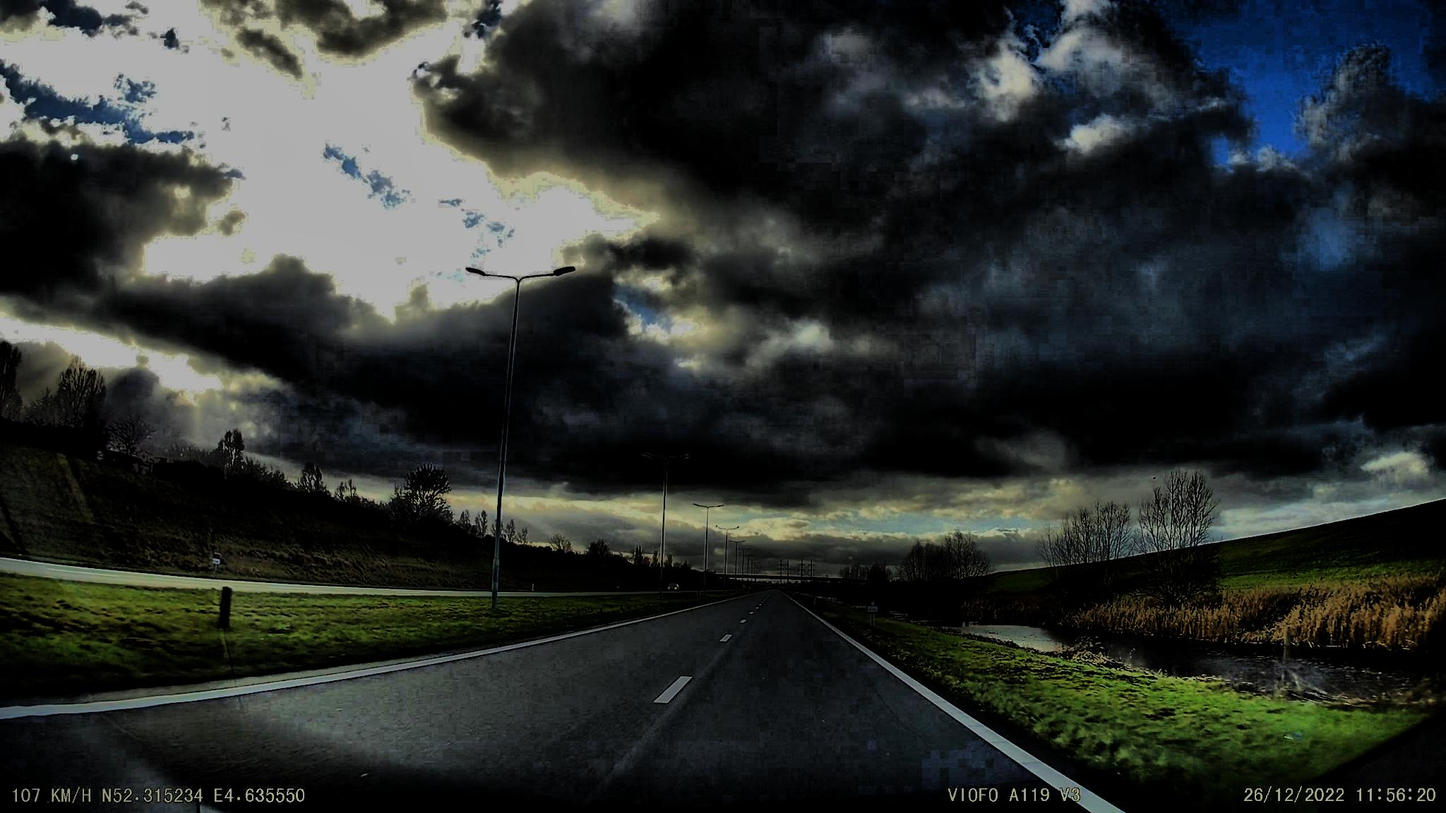Roads: (0, 598, 1158, 813)
